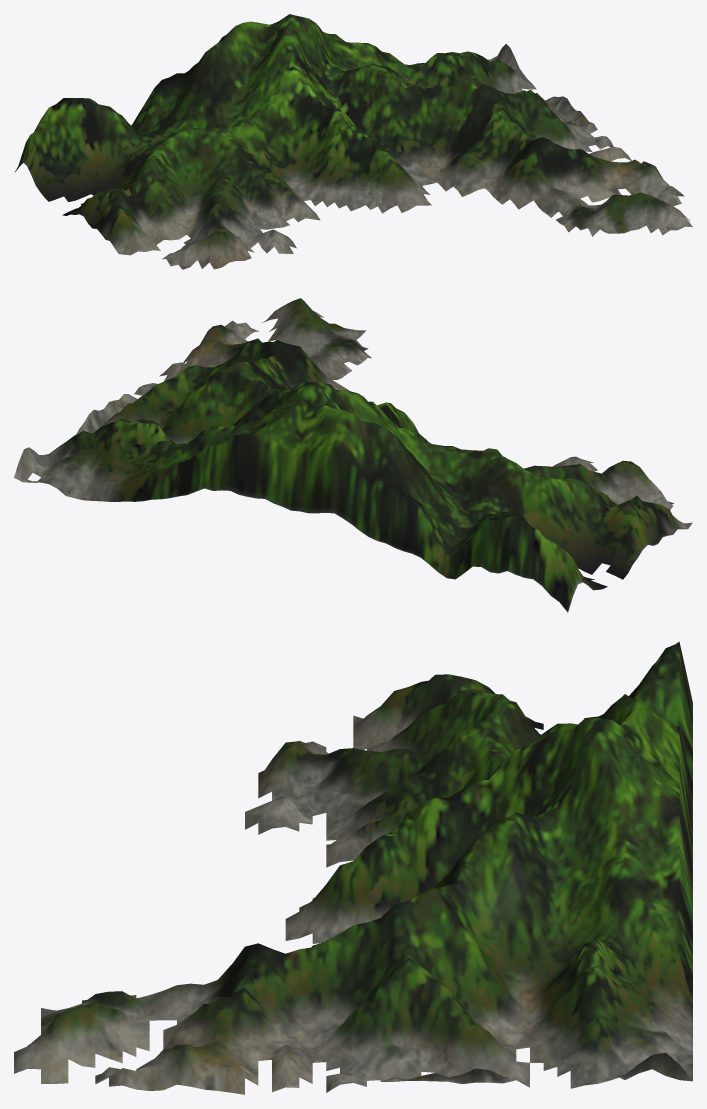
The model's file is Mountains.glb.
3 renders of one model, top to bottom at view 1: azimuth 30°, elevation 25°; view 2: azimuth 150°, elevation 25°; view 3: azimuth 270°, elevation 25°, orthographic. The views are drawn at different scales.
Visible parts, largest first — view 1: Plane; view 2: Plane; view 3: Plane.
Boxes of the visible parts, box(x1,y1,x2,y2) form: Plane: box(15, 14, 692, 269); Plane: box(14, 298, 692, 612); Plane: box(14, 641, 692, 1094).
Bounding box in the file's own units: 24.05 × 6.08 × 18.79.
Materials: 1 (1 with a texture image).
